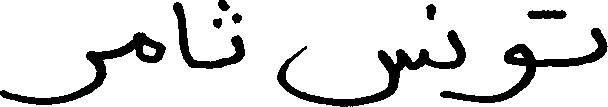ا: (171, 0, 191, 69)
ت: (531, 6, 606, 63)
ث: (208, 0, 244, 66)
ر: (0, 49, 108, 105)
س: (274, 38, 427, 105)
م: (133, 29, 164, 62)
ن: (426, 0, 466, 71)
و: (479, 41, 535, 101)
